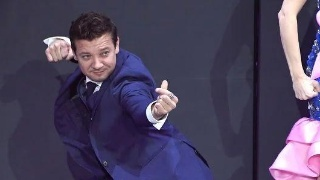oneheart: (147, 79, 184, 116)
